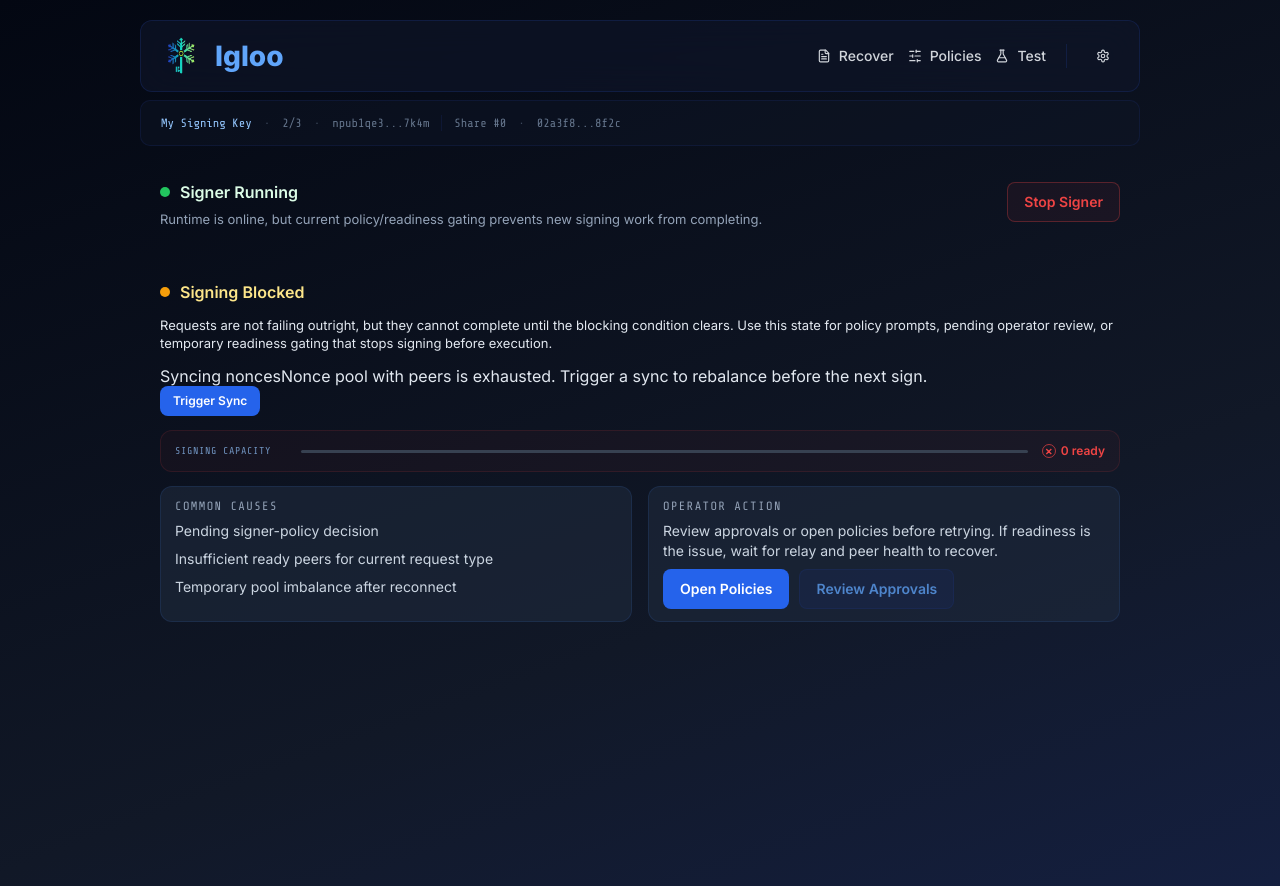
Test case: Settings Sidebar › displays Device Profile section with name, password, and relays
Click the button named "Settings" at coordinates (1103, 56), box [1087,40,1119,72]
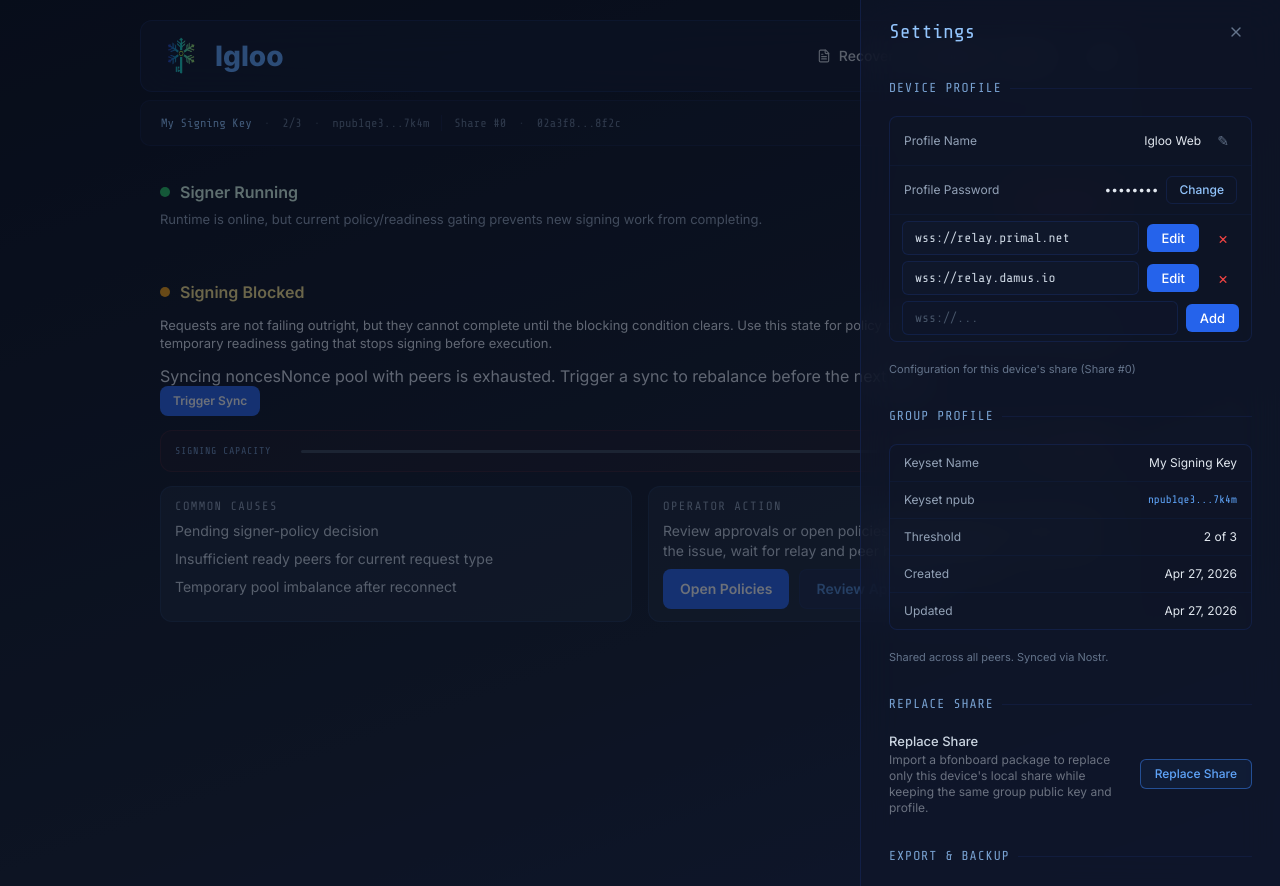
Check: the text "Profile Name" is shown, box [904,133,977,149]
Check: the text "Igloo Web" is shown, box [1144,133,1201,149]
Check: the text "Profile Password" is shown, box [904,182,999,198]
